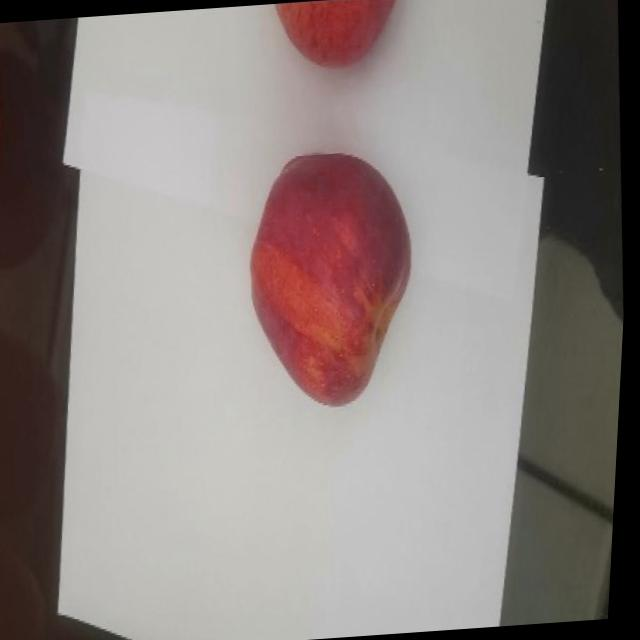Apple: (239, 144, 430, 412), (271, 0, 401, 71), (0, 42, 12, 209)
